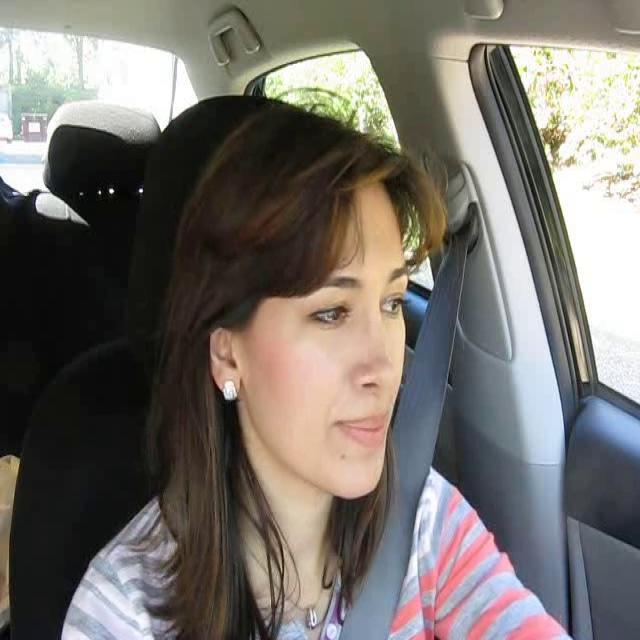close: (337, 408, 392, 453)
